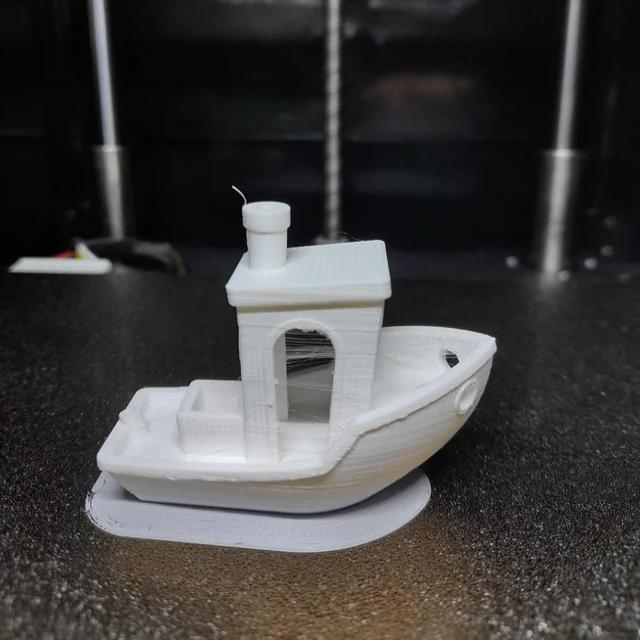Stringing: (288, 336, 333, 362), (278, 379, 330, 392)
